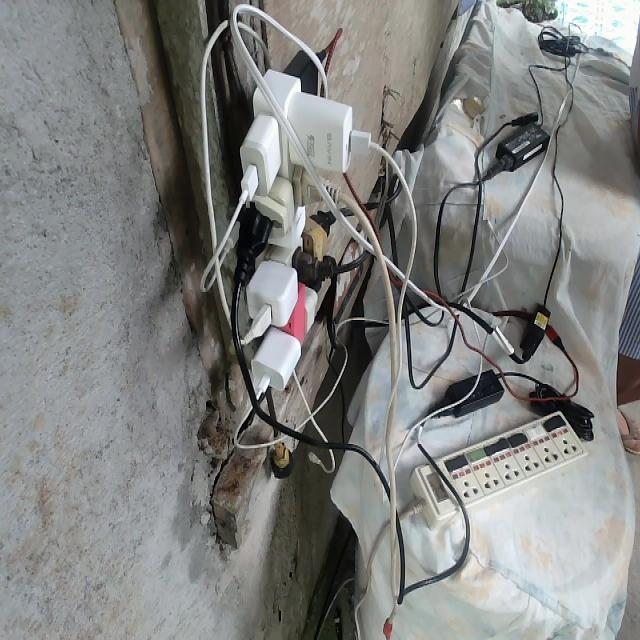-: (238, 65, 363, 392)
